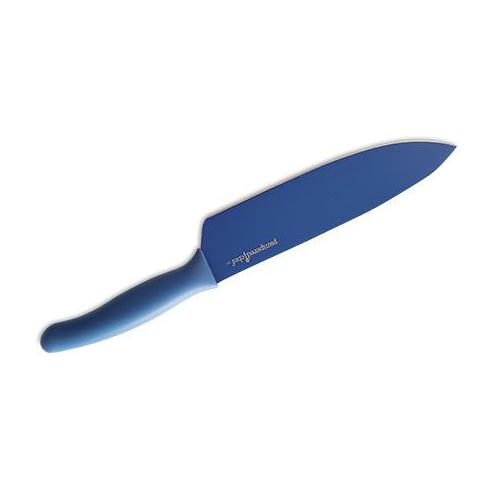knife: (42, 141, 458, 354)
